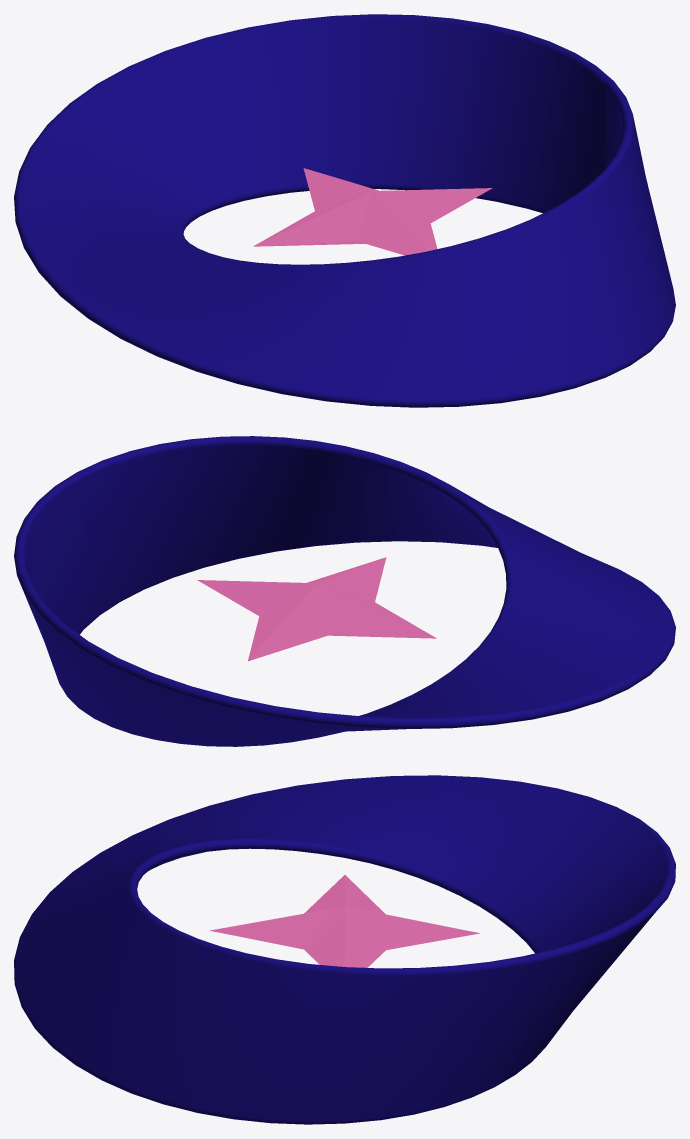
Rendered from flow.glb.
The picture shows the model from 3 angles, top to bottom: view 1: azimuth 30°, elevation 25°; view 2: azimuth 150°, elevation 25°; view 3: azimuth 270°, elevation 25°; orthographic projection. The views are drawn at different scales.
Visible parts, largest first — view 1: Moebius, Plane.007; view 2: Moebius, Plane.007; view 3: Moebius, Plane.007.
Boxes of the visible parts, box(x1,y1,x2,y2) form: Moebius: box(14, 14, 675, 407); Plane.007: box(253, 168, 492, 255); Moebius: box(14, 436, 675, 746); Plane.007: box(197, 557, 436, 661); Moebius: box(14, 775, 675, 1124); Plane.007: box(210, 875, 479, 967).
Size of the model in its own units: 2.35 by 0.64 by 2.47.
